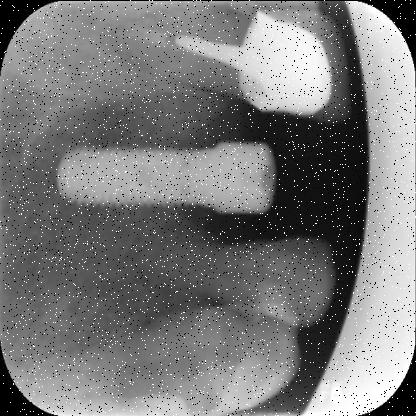Bego: (57, 116, 276, 237)
